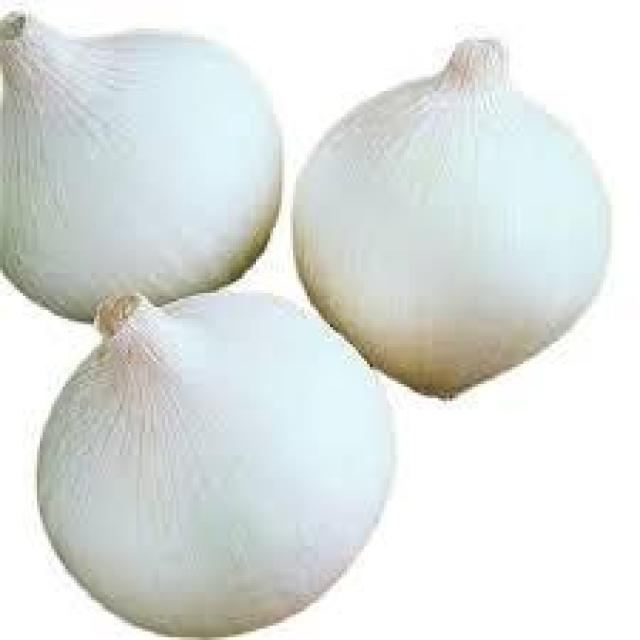Onion: (28, 276, 396, 637), (286, 40, 610, 404), (3, 3, 287, 324)
